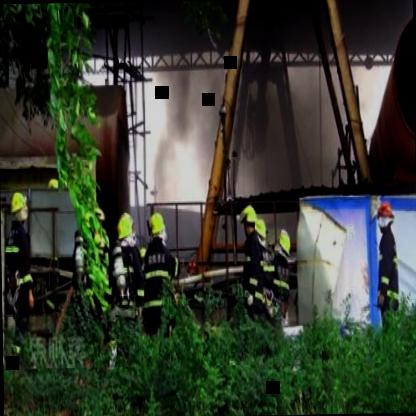helmet: (115, 205, 136, 253), (10, 188, 30, 230), (372, 199, 394, 236), (148, 210, 167, 244), (240, 203, 256, 239), (274, 229, 290, 263), (252, 214, 269, 246)
